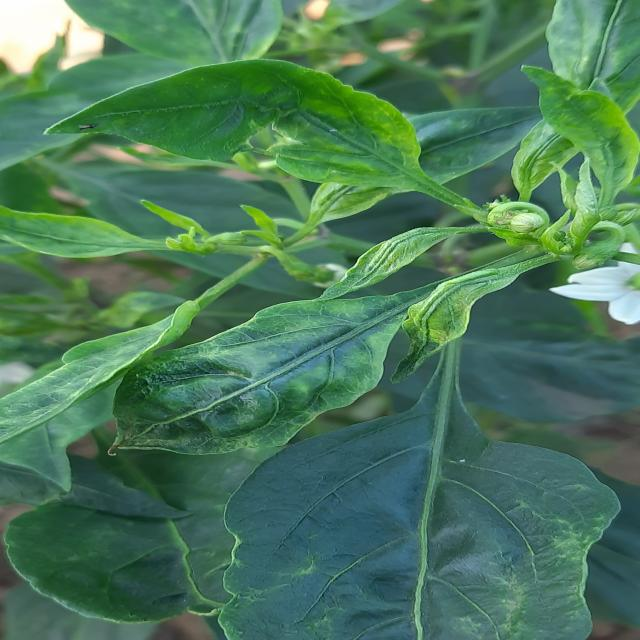thrips: (94, 267, 446, 475), (51, 62, 464, 197)
